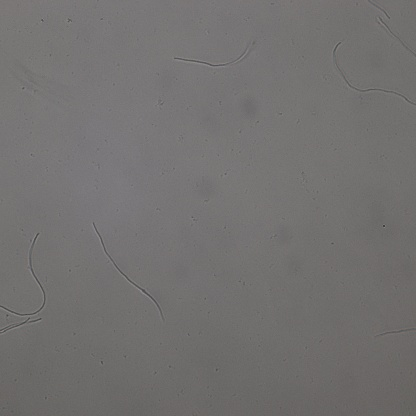Sensitive: (93, 223, 164, 321), (331, 42, 416, 107), (1, 233, 48, 316), (173, 41, 252, 70), (378, 18, 416, 58), (1, 318, 41, 333), (377, 326, 416, 339)
